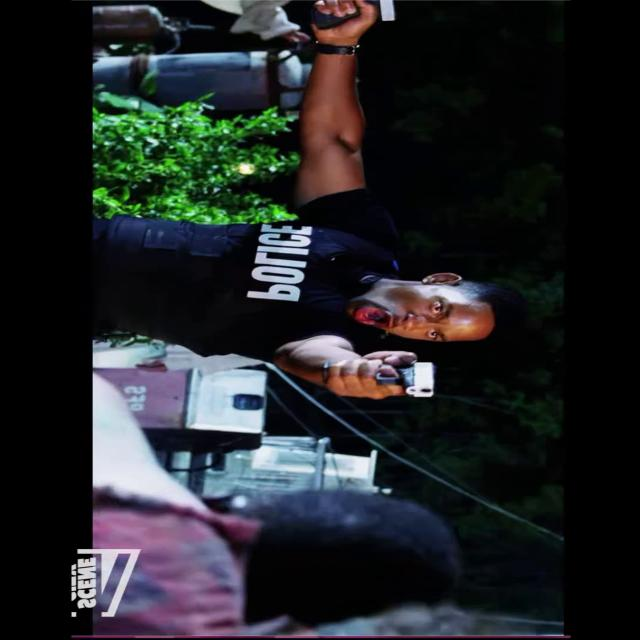weapons: (326, 350, 454, 404)
